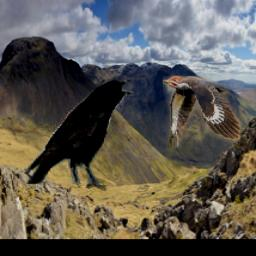Crow: (24, 76, 134, 192)
Woodpecker: (164, 77, 242, 149)
